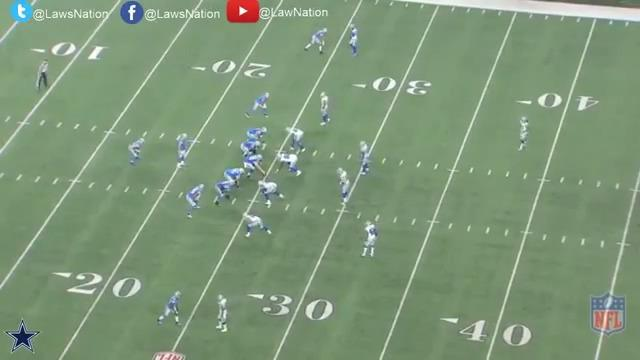player: (156, 290, 184, 330), (256, 179, 286, 208), (242, 212, 273, 240), (183, 183, 205, 220), (244, 90, 271, 120), (304, 25, 330, 56), (214, 293, 231, 336), (275, 151, 302, 177), (361, 220, 378, 260), (211, 179, 235, 207), (516, 114, 532, 154), (177, 133, 193, 173), (337, 166, 352, 208), (127, 137, 146, 170), (241, 154, 265, 180), (317, 90, 332, 128), (222, 165, 244, 190), (285, 126, 305, 153), (346, 24, 361, 60), (240, 138, 262, 160), (358, 140, 370, 179), (245, 126, 267, 141)
ref: (36, 60, 50, 95)
